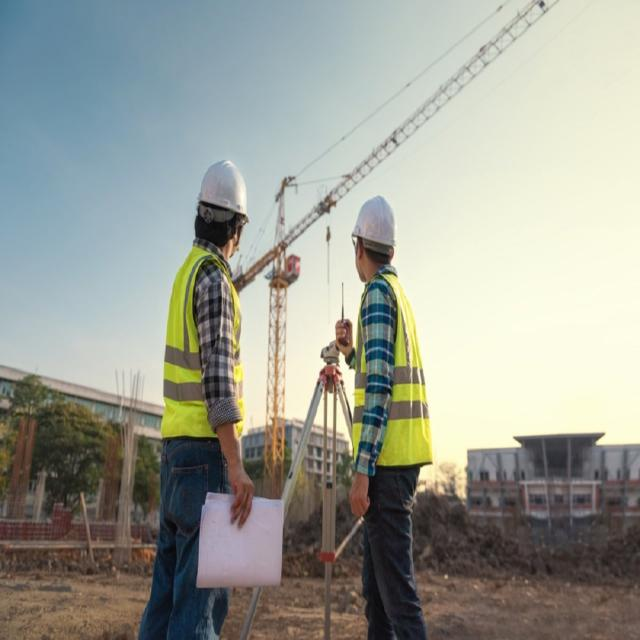person: (142, 135, 245, 639), (350, 185, 434, 634)
safety_helmet: (195, 144, 248, 213), (354, 192, 397, 244)
safety_jacket: (354, 268, 438, 468), (162, 248, 241, 436)
